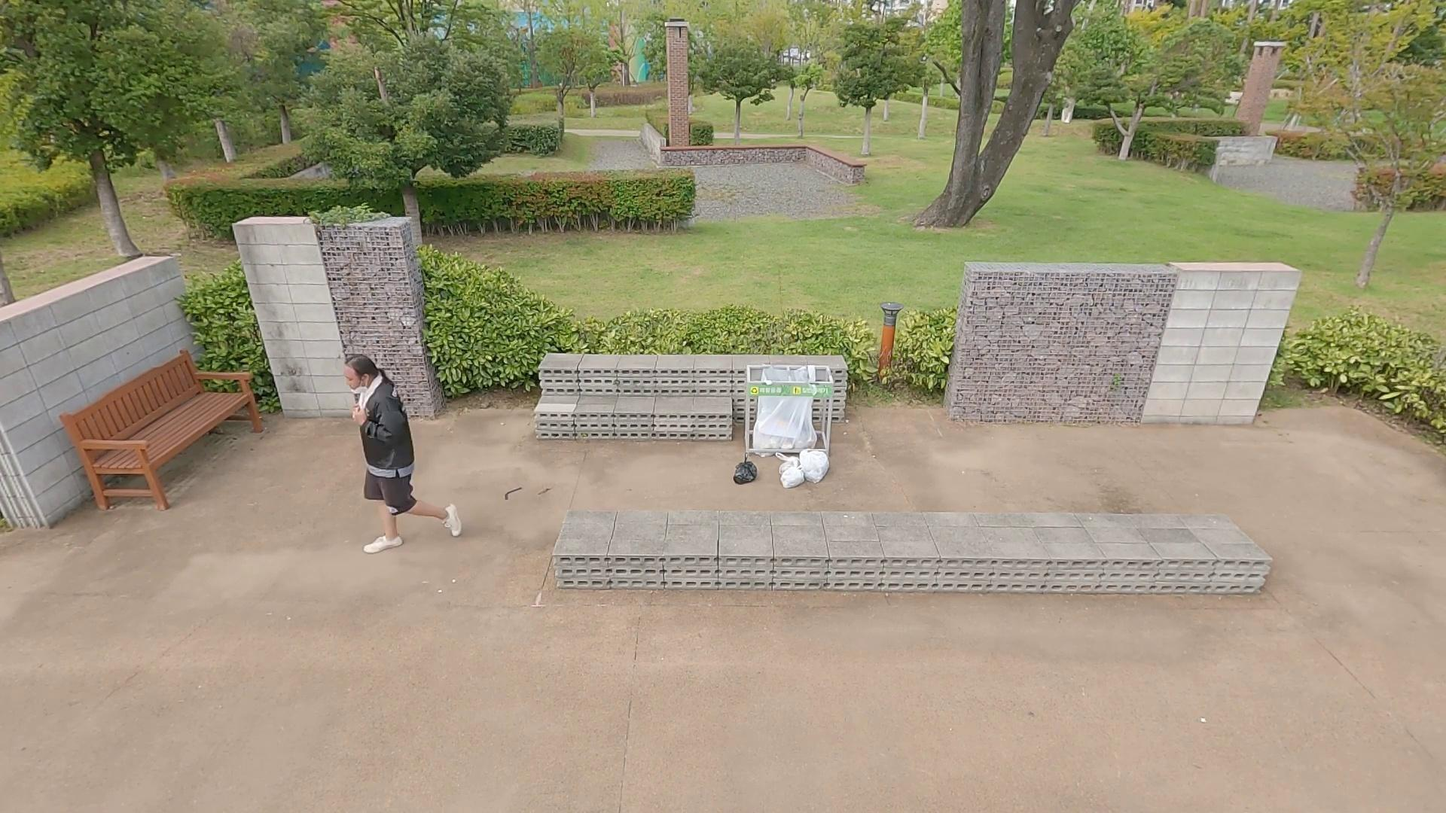person: (336, 345, 465, 555)
trash: (798, 446, 836, 488), (773, 450, 811, 490), (734, 455, 758, 487)
